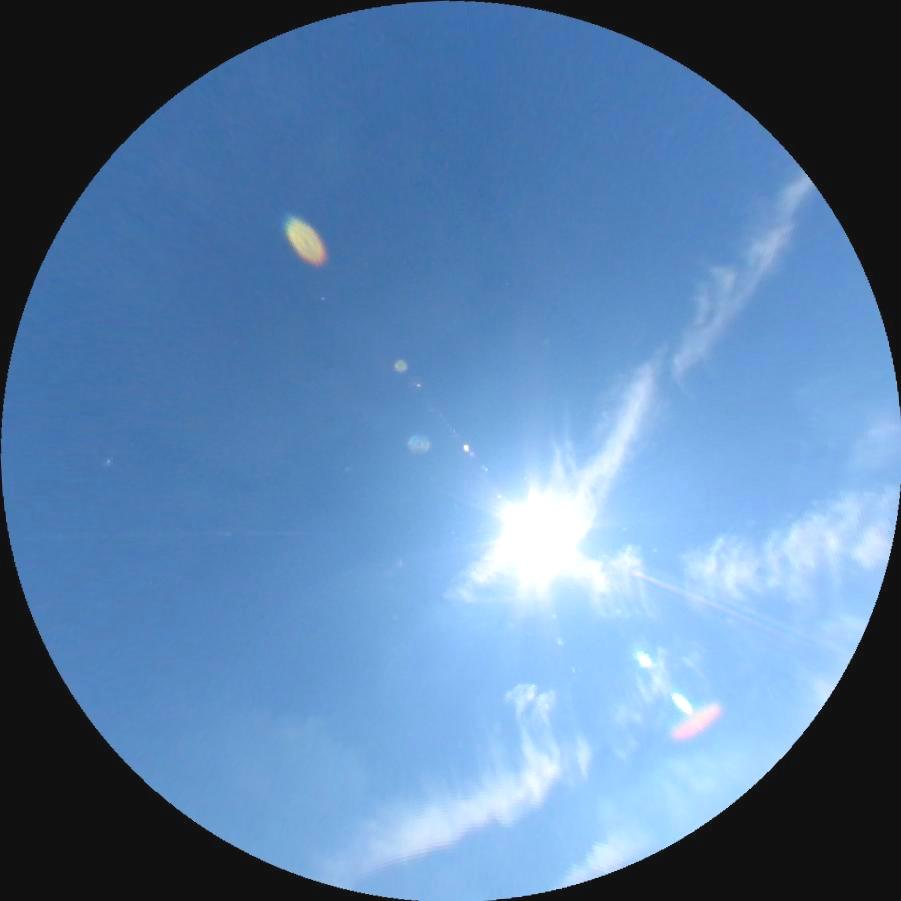contrail veryold: (440, 164, 850, 639)
parasite: (627, 564, 781, 636)
sun: (497, 494, 577, 570)
